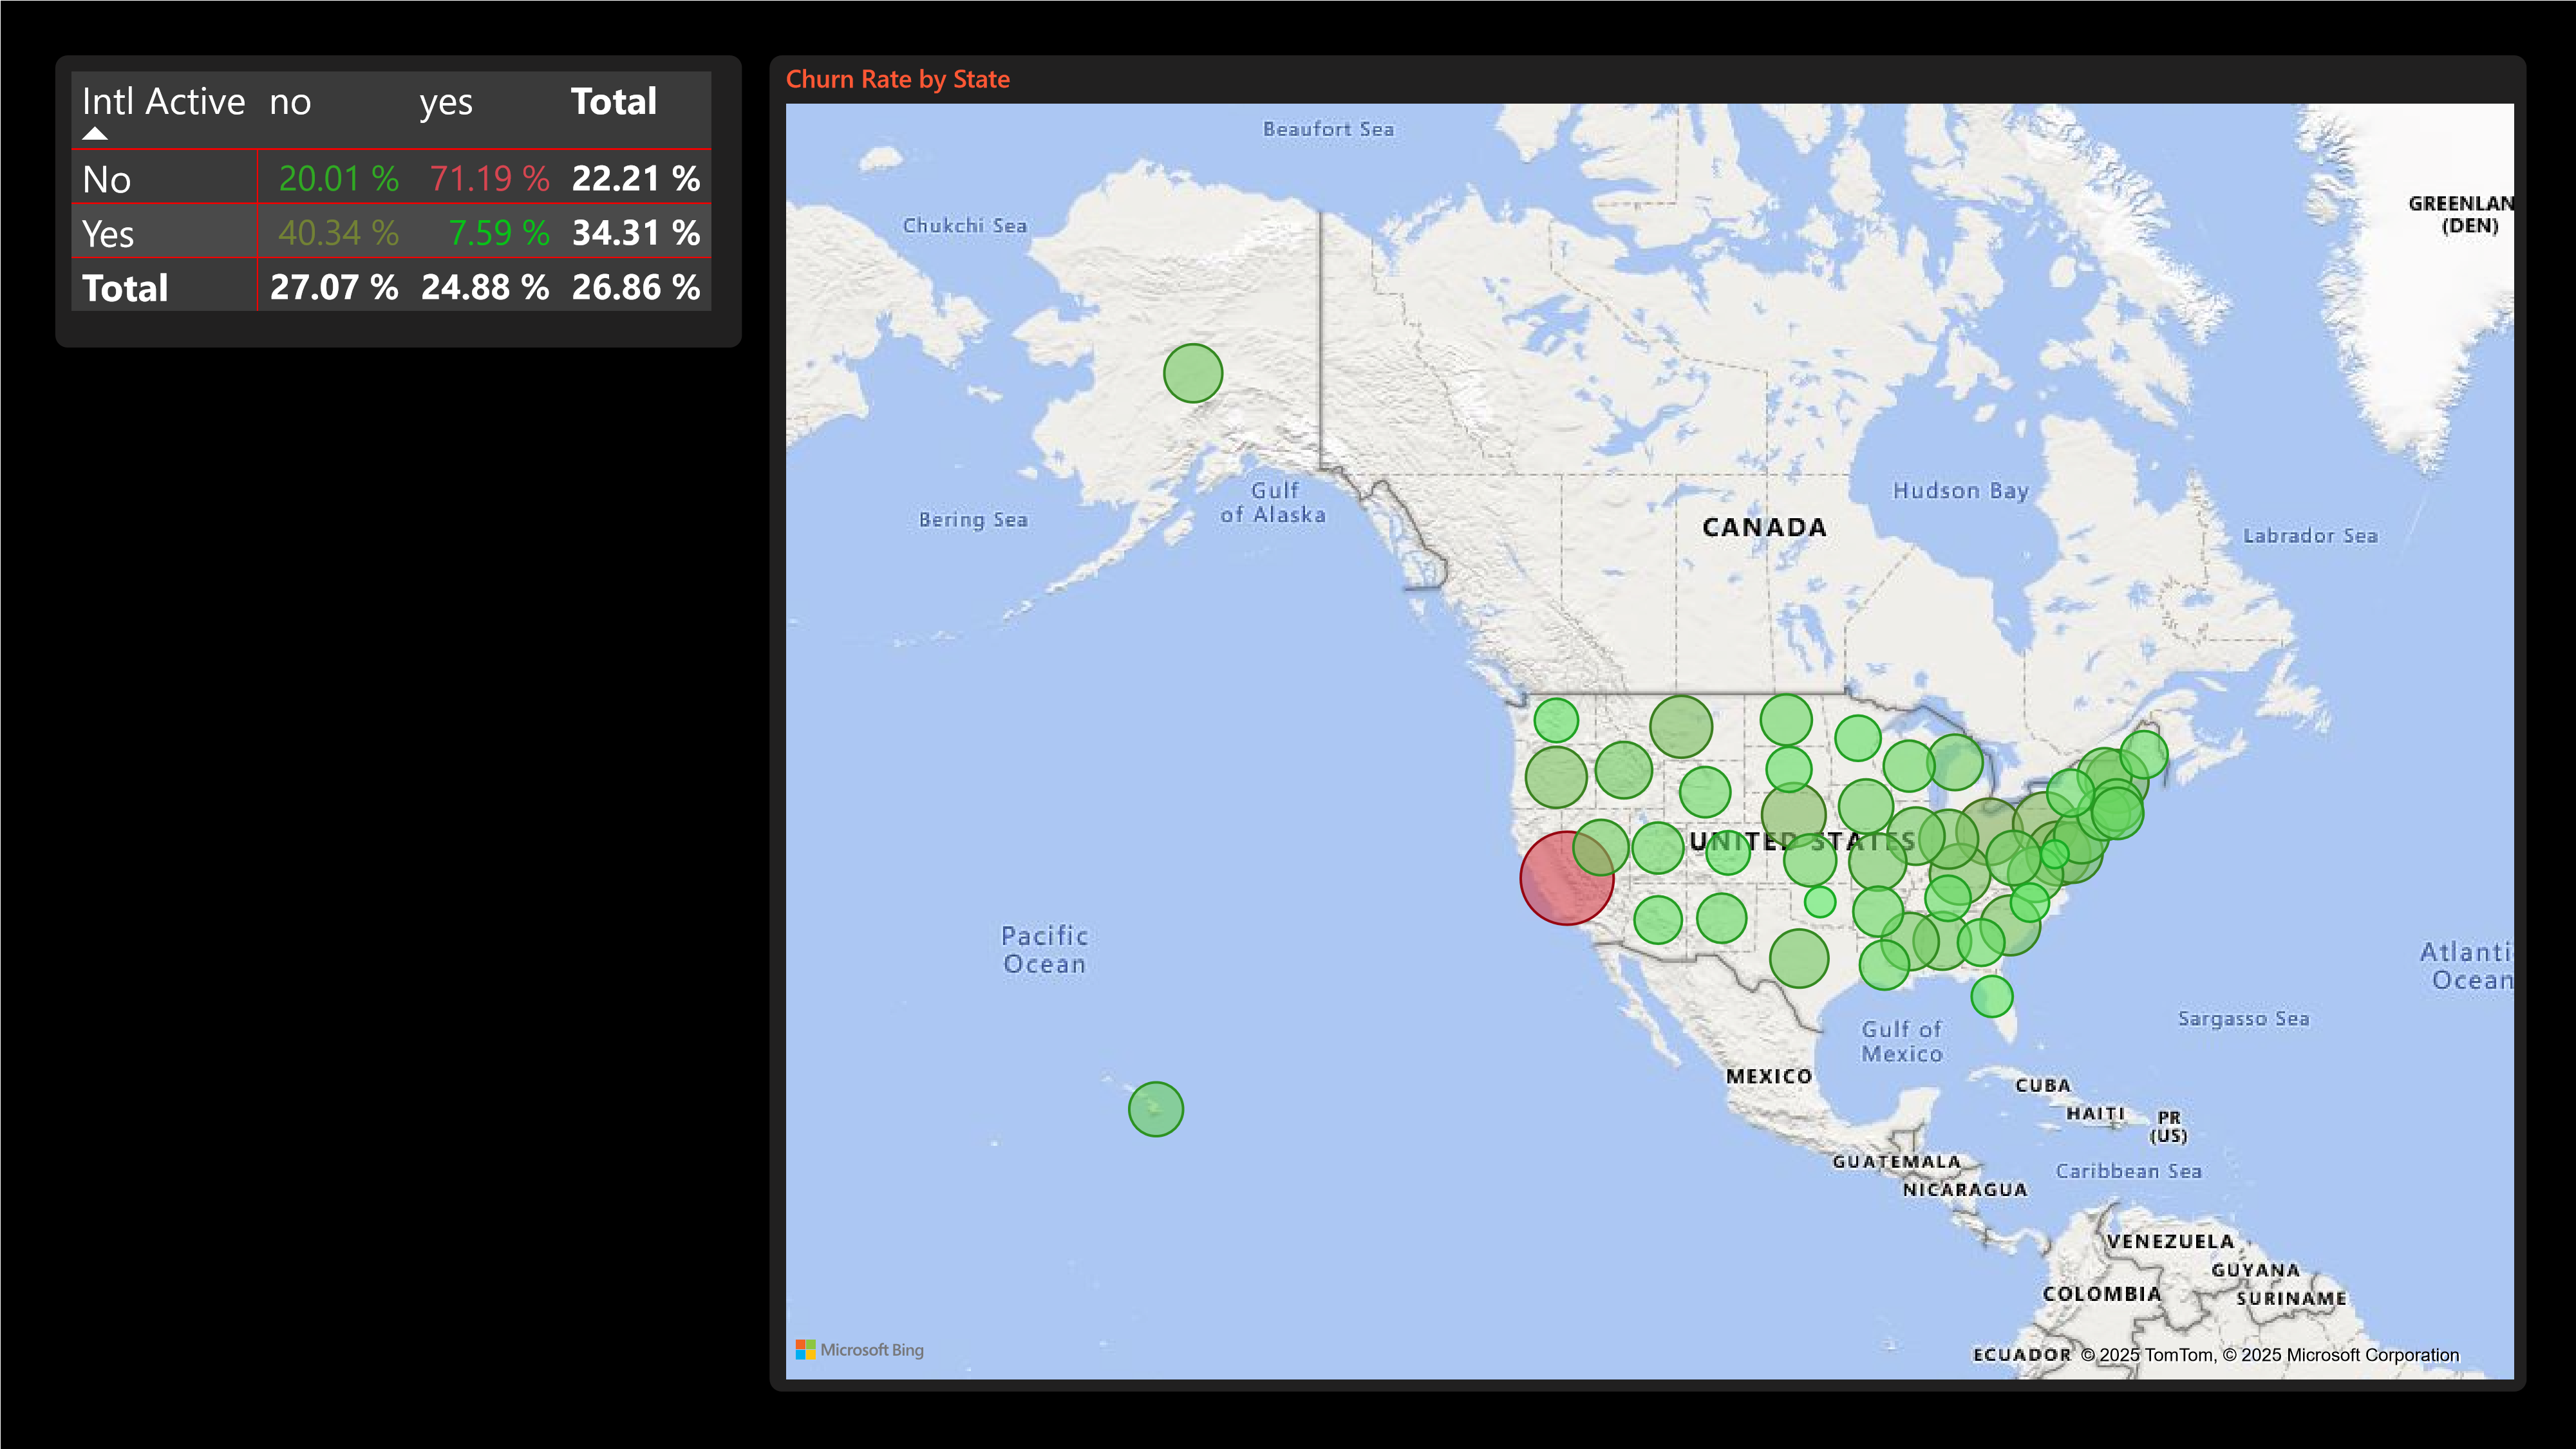

This screenshot's page, from the dashboard's own definition file:
{"tool":"powerbi","page":{"name":"International Calls","canvas":[1280,720],"ordinal":3},"visuals":[{"type":"pivotTable","fields":{"Rows":["Databel - Data.Intl Active"],"Values":["Databel - Data.Churn Rate"],"Columns":["Databel - Data.Intl Plan"]},"box":[27.3,27.3,340.2,144.8],"z":0},{"type":"map","fields":{"Category":["Databel - Data.State"],"Size":["Databel - Data.Churn Rate"]},"box":[381.7,27.3,873.8,663.2],"z":1000}]}

Visuals, with their boxes in screenshot pixels (x1, y1, x2, y2), scaled from the page's 1280x720 canvas onto the 2576x1449 screenshot:
pivotTable - Databel - Data.Intl Active x Databel - Data.Churn Rate: x1=55 y1=55 x2=740 y2=346
map - Databel - Data.State x Databel - Data.Churn Rate: x1=768 y1=55 x2=2526 y2=1390
